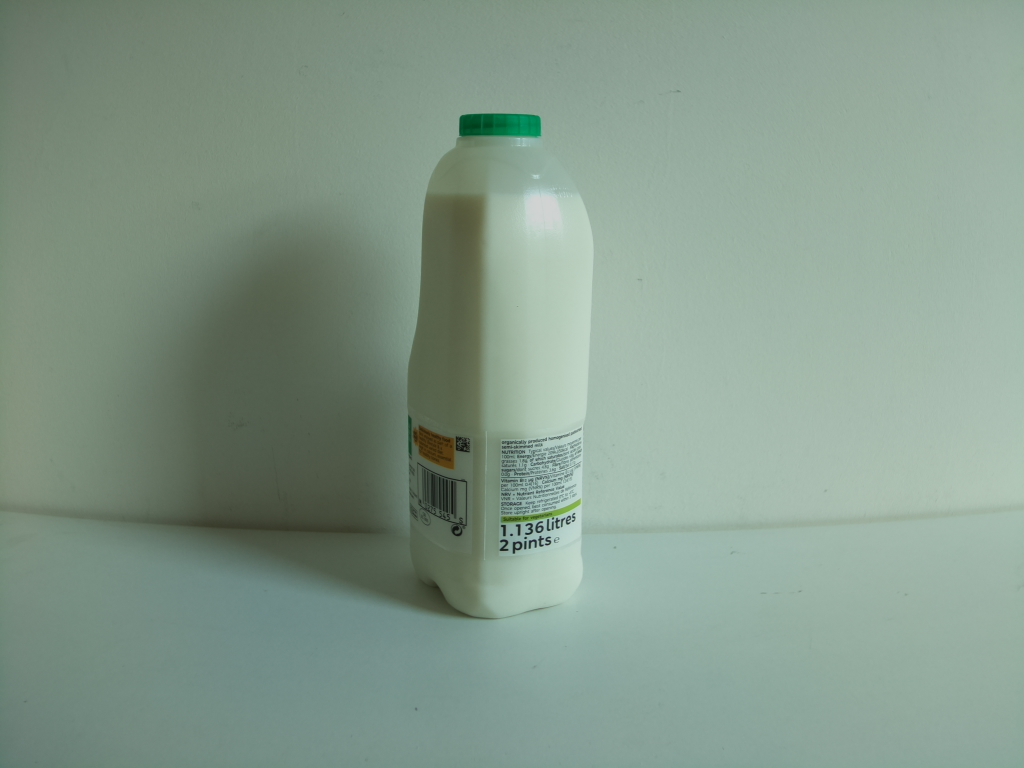milk: (401, 105, 601, 621)
